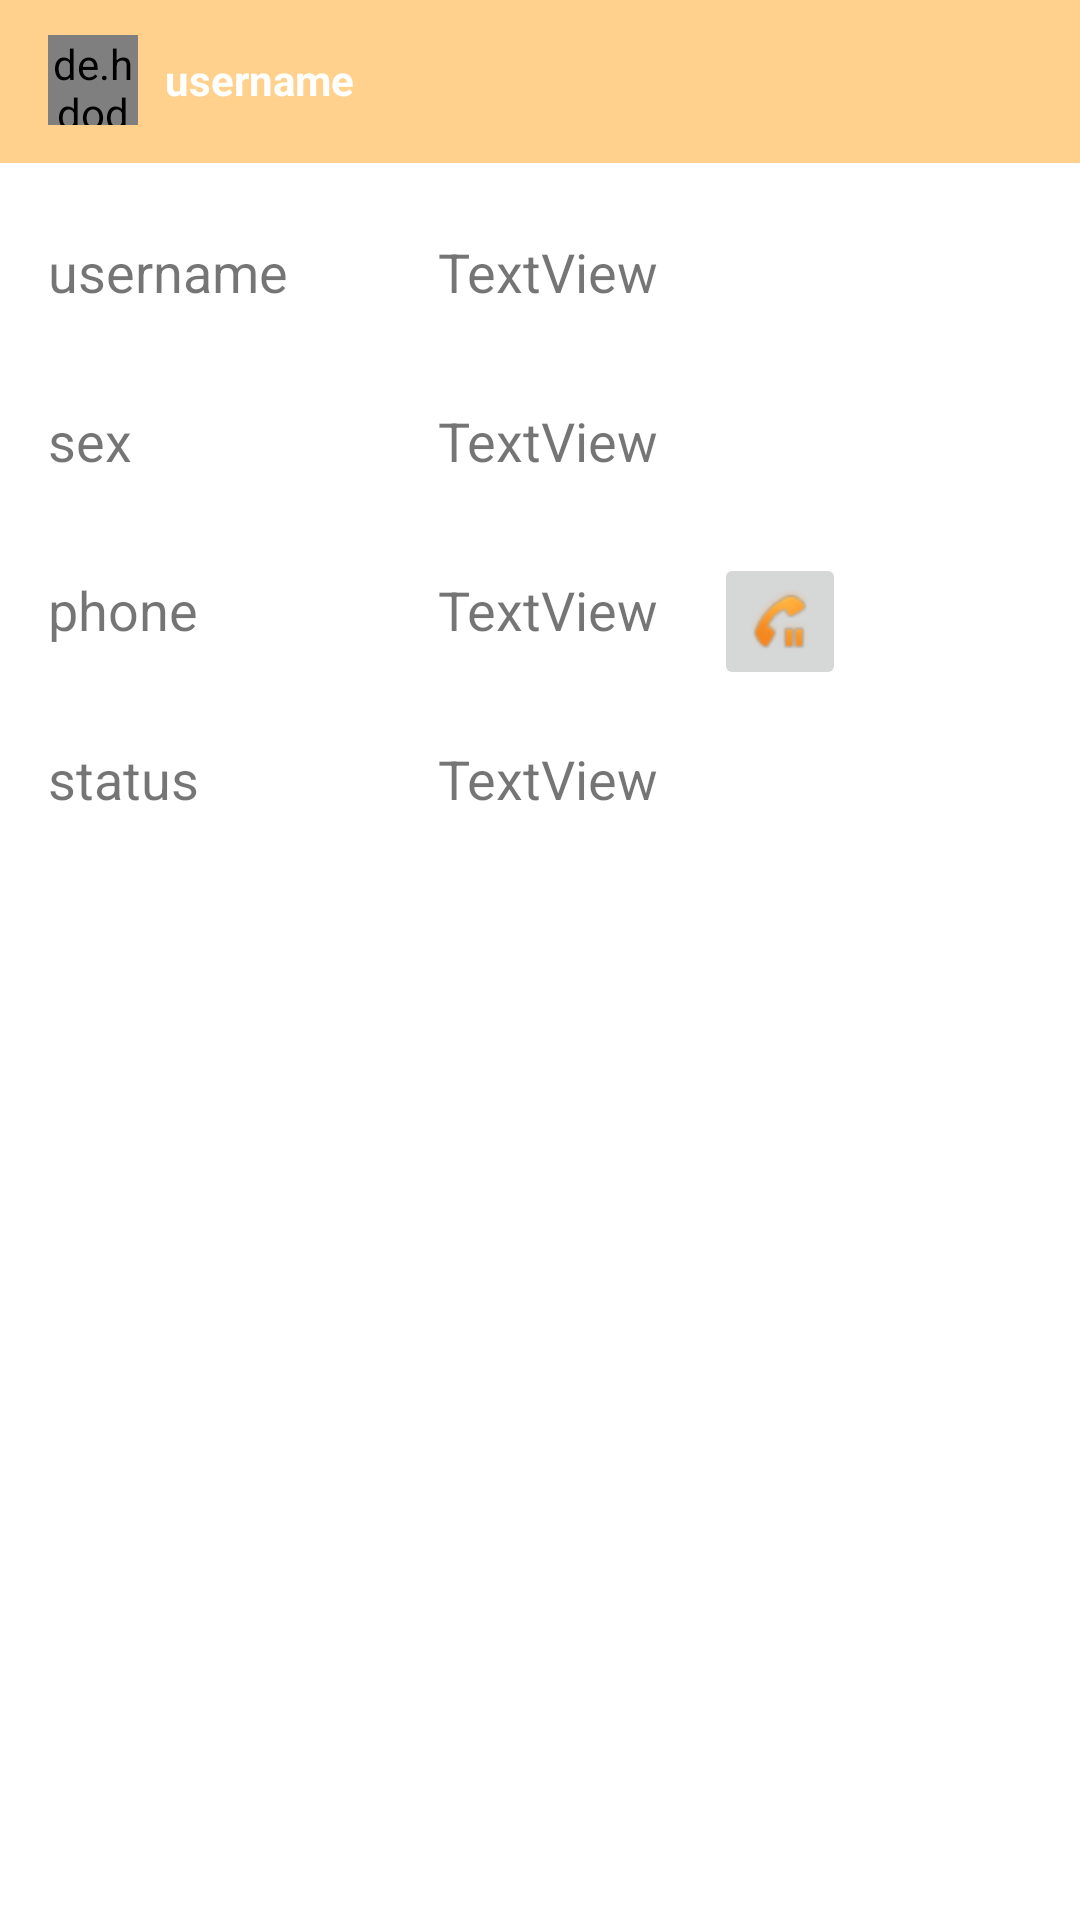

Locate icon controls on the screen. Image size 1080px×1920px, boxes as [left=x1, top=y1, right=x2, bottom=y2].
phone call on hold: [left=726, top=571, right=834, bottom=672]
